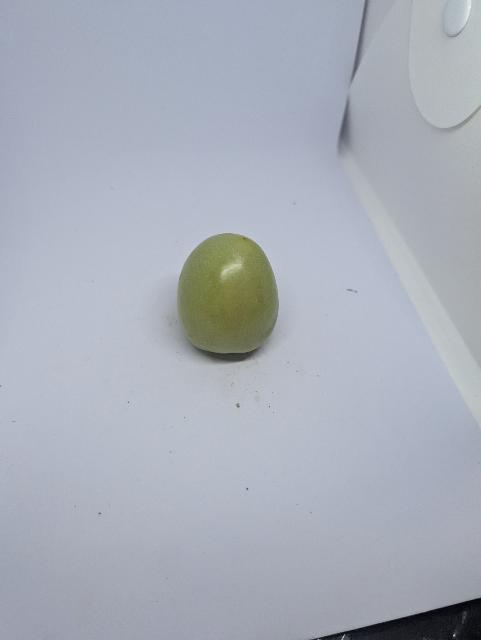green: (174, 231, 282, 357)
